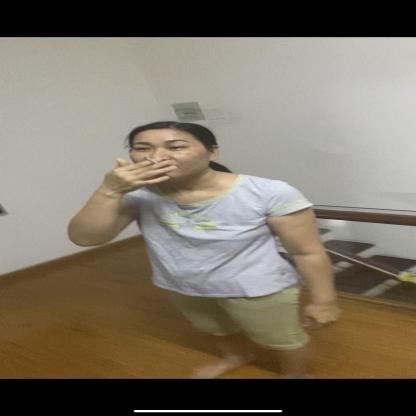cigarette: (143, 156, 157, 164)
person: (70, 116, 364, 368)
